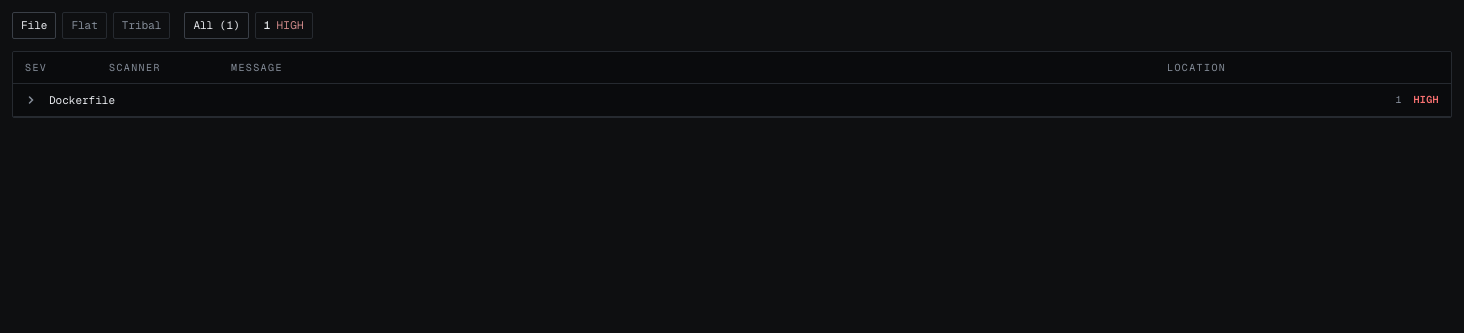
FindingsTable source context › explains file-scoped misconfiguration findings
The image size is (1464, 333).
Click the button "Dockerfile 1 HIGH" at (82, 100), box [13,84,1451,117]
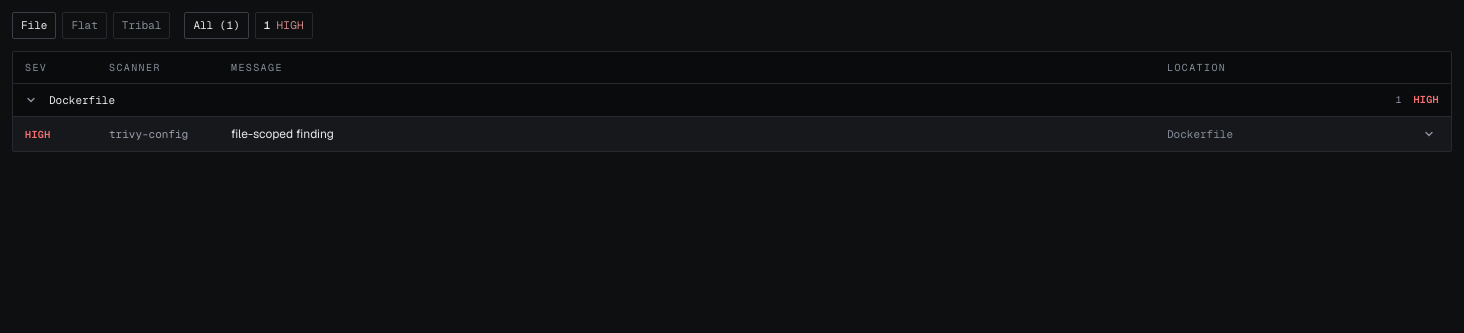
Click the button "HIGH trivy-config file-scoped finding Dockerfile" at (149, 134), box [13,117,1451,151]
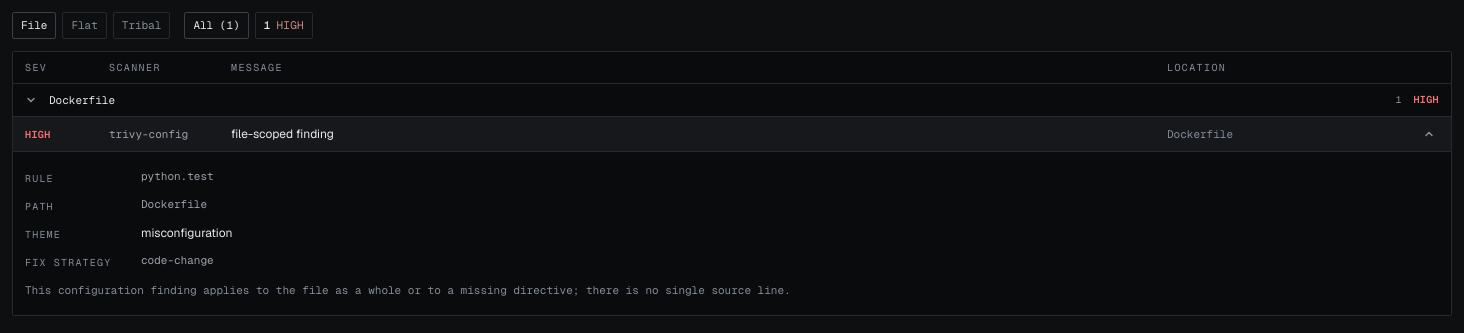
Now the text "This configuration finding applies to the file as a whole or to a missing directive; there is no single source line." is shown, box [25,283,791,297]
